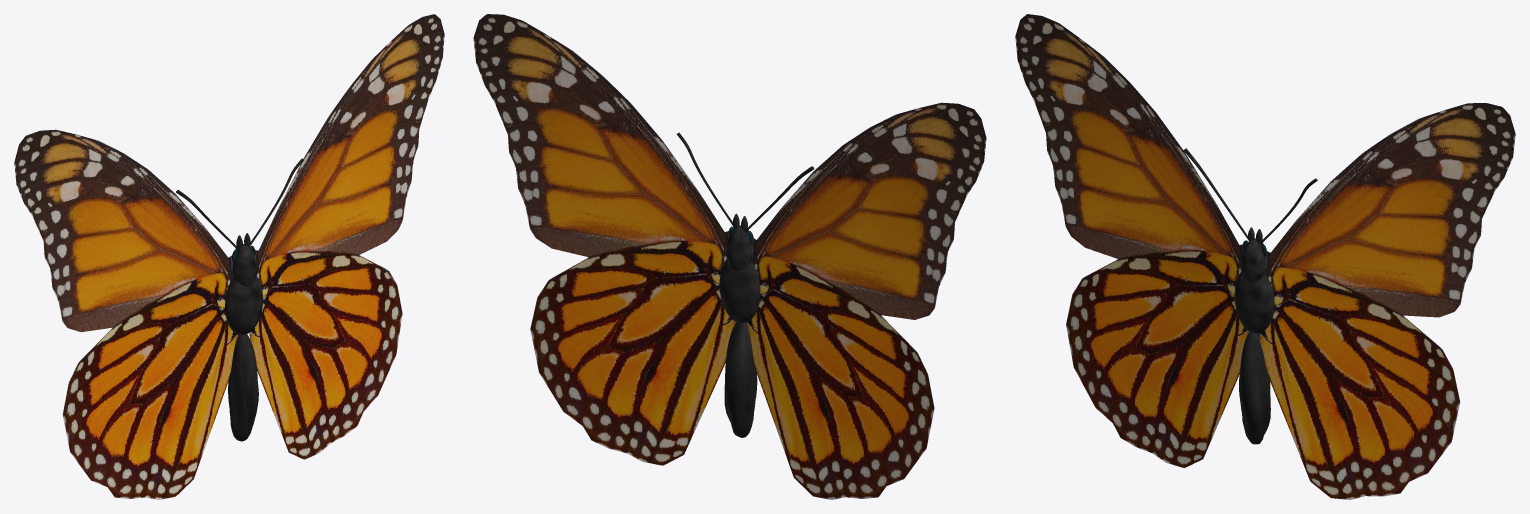
Rendered from butterfly.glb.
3 renders of one model, left to right at view 1: azimuth 30°, elevation 25°; view 2: azimuth 150°, elevation 25°; view 3: azimuth 330°, elevation 25°, orthographic. The views are drawn at different scales.
Parts seen in each view (by area): view 1: Wing 1, Wing, Icosphere.001, Sphere, Sphere.001; view 2: Wing, Wing 1, Icosphere.001, Sphere, Sphere.001; view 3: Wing, Wing 1, Icosphere.001, Sphere, Sphere.001.
Boxes of the visible parts, x1=… form: Wing 1: x1=14, y1=129, x2=238, y2=499; Wing: x1=249, y1=14, x2=444, y2=459; Icosphere.001: x1=228, y1=334, x2=258, y2=441; Sphere: x1=225, y1=275, x2=262, y2=334; Sphere.001: x1=232, y1=244, x2=256, y2=286; Wing: x1=473, y1=14, x2=736, y2=465; Wing 1: x1=745, y1=102, x2=986, y2=499; Icosphere.001: x1=724, y1=322, x2=757, y2=437; Sphere: x1=719, y1=259, x2=760, y2=322; Sphere.001: x1=726, y1=225, x2=752, y2=270; Wing: x1=1258, y1=103, x2=1515, y2=499; Wing 1: x1=1015, y1=14, x2=1249, y2=468; Icosphere.001: x1=1239, y1=332, x2=1270, y2=444; Sphere: x1=1234, y1=271, x2=1274, y2=333; Sphere.001: x1=1241, y1=238, x2=1265, y2=282.
Bounding box in the file's own units: 5.59 × 4.69 × 0.6806.
Materials: 3 (3 with a texture image).
